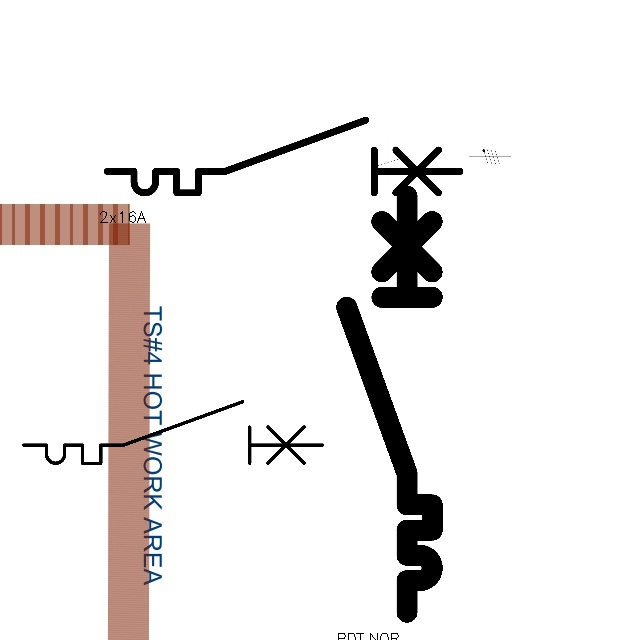interruptor_termomagnetico: (336, 185, 443, 622), (98, 111, 469, 202), (16, 394, 330, 471)
